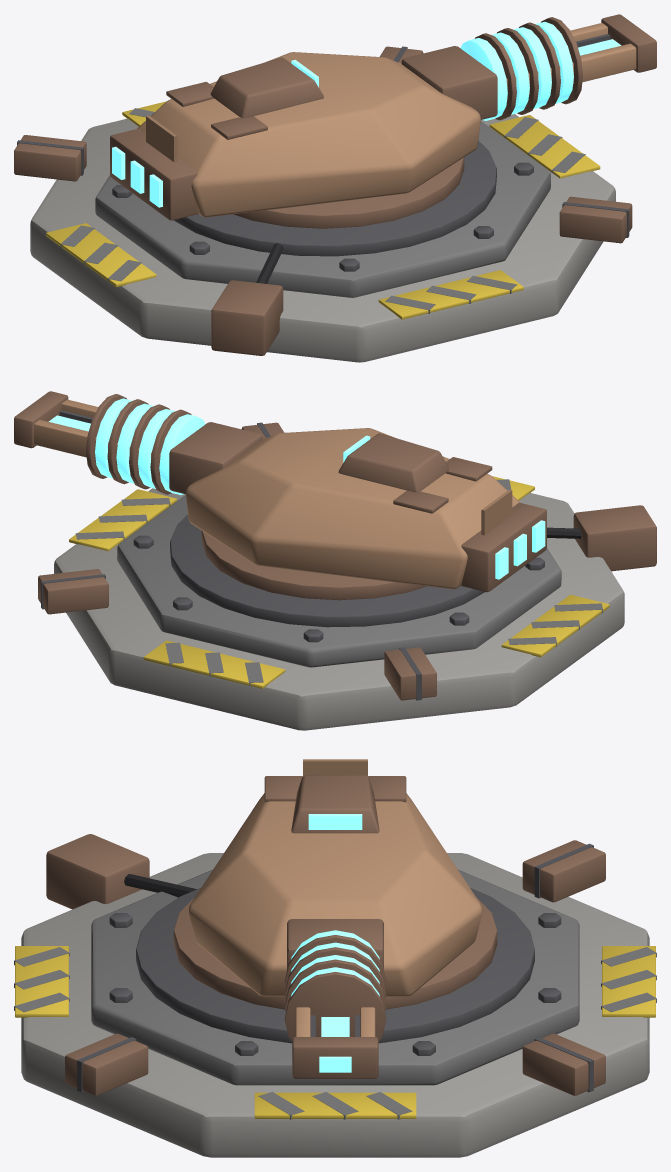
File: tower_laser.glb
3 renders of one model, top to bottom at view 1: azimuth 30°, elevation 25°; view 2: azimuth 150°, elevation 25°; view 3: azimuth 270°, elevation 25°, orthographic. The views are drawn at different scales.
Visible parts, largest first — view 1: base, turret, barrel; view 2: base, turret, barrel; view 3: base, turret, barrel.
Boxes of the visible parts, x1,y1,x2,y2 form: base: (14, 46, 632, 362); turret: (110, 52, 480, 228); barrel: (401, 14, 656, 120); base: (38, 422, 656, 730); turret: (185, 428, 546, 600); barrel: (14, 391, 262, 494); base: (14, 834, 656, 1157); turret: (173, 759, 497, 1009); barrel: (284, 919, 386, 1078).
Size of the model in its own units: 6.9 by 2.1 by 5.96.
